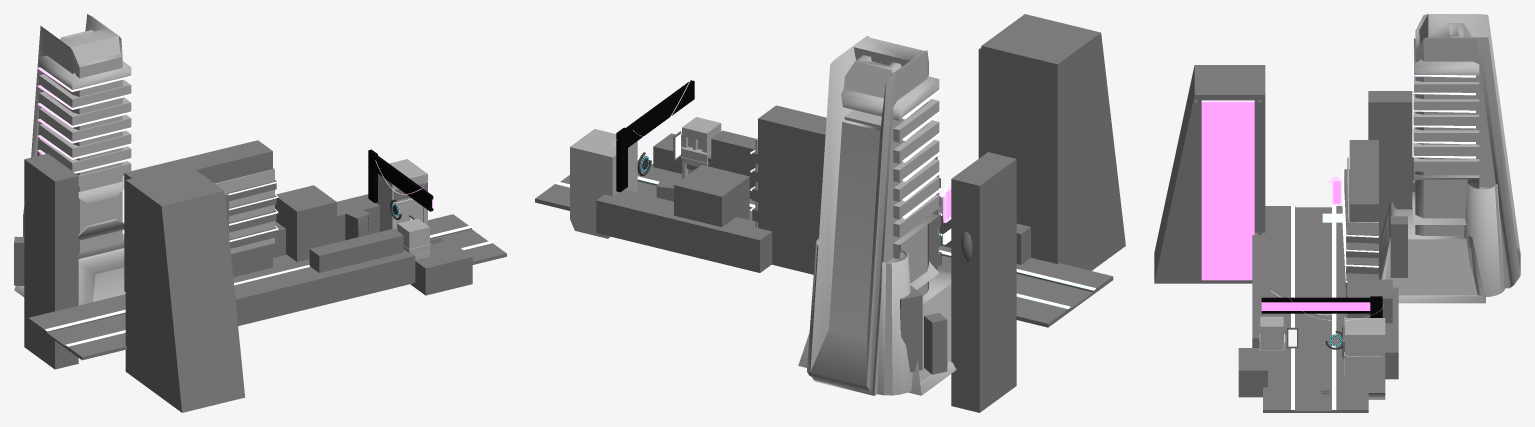
Rendered from street.gltf.
The picture shows the model from 3 angles, left to right: view 1: azimuth 30°, elevation 25°; view 2: azimuth 150°, elevation 25°; view 3: azimuth 270°, elevation 25°; orthographic projection. The views are drawn at different scales.
Parts seen in each view (by area): view 1: pasted__polySurface4391, pasted__pasted__pCube59, pCube51.002, polySurface3, polySurface29, pCube47, pCube65, pCube51, pCube16, pCube51.001, polySurface27, polySurface1 (+5 smaller); view 2: pasted__polySurface4391, pasted__pasted__pCube59, polySurface29, pCube51.001, polySurface3, pCube16, pCube47, polySurface1, polySurface27, pCube65, pCube51.002, pCube51 (+1 smaller); view 3: pasted__polySurface4391, pasted__pasted__pCube59, polySurface3, polySurface29, pCube16, pCube51.002, pCube51, polySurface1, pCube47, pCube51.001, polySurface28, polySurface27 (+4 smaller).
Part boxes in pixels (left/top/right/bottom): pasted__polySurface4391: left=14, top=14, right=132, bottom=369; pasted__pasted__pCube59: left=125, top=164, right=245, bottom=412; pCube51.002: left=234, top=249, right=415, bottom=325; polySurface3: left=28, top=214, right=506, bottom=360; polySurface29: left=124, top=140, right=276, bottom=291; pCube47: left=275, top=185, right=336, bottom=261; pCube65: left=309, top=228, right=403, bottom=272; pCube51: left=410, top=246, right=472, bottom=295; pCube16: left=376, top=159, right=427, bottom=231; pCube51.001: left=273, top=194, right=379, bottom=257; polySurface27: left=374, top=155, right=433, bottom=211; polySurface1: left=397, top=218, right=430, bottom=259; pasted__polySurface4391: left=798, top=36, right=1016, bottom=412; pasted__pasted__pCube59: left=978, top=14, right=1125, bottom=270; polySurface29: left=752, top=105, right=940, bottom=274; pCube51.001: left=596, top=189, right=772, bottom=272; polySurface3: left=535, top=160, right=1113, bottom=327; pCube16: left=570, top=129, right=637, bottom=238; pCube47: left=674, top=165, right=749, bottom=227; polySurface1: left=681, top=117, right=721, bottom=178; polySurface27: left=626, top=80, right=694, bottom=147; pCube65: left=711, top=130, right=755, bottom=169; pCube51.002: left=708, top=156, right=1030, bottom=264; pCube51: left=653, top=133, right=681, bottom=173; pasted__polySurface4391: left=1368, top=14, right=1520, bottom=303; pasted__pasted__pCube59: left=1154, top=65, right=1265, bottom=283; polySurface3: left=1263, top=206, right=1368, bottom=412; polySurface29: left=1344, top=140, right=1378, bottom=295; pCube16: left=1344, top=318, right=1385, bottom=399; pCube51.002: left=1252, top=213, right=1281, bottom=347; pCube51: left=1238, top=348, right=1267, bottom=397; polySurface1: left=1259, top=316, right=1285, bottom=372; pCube47: left=1347, top=279, right=1392, bottom=323; pCube51.001: left=1385, top=287, right=1398, bottom=379; polySurface28: left=1261, top=302, right=1370, bottom=310; polySurface27: left=1261, top=297, right=1370, bottom=313.
Bounding box in the file's own units: 1.39 × 0.9023 × 1.06.
